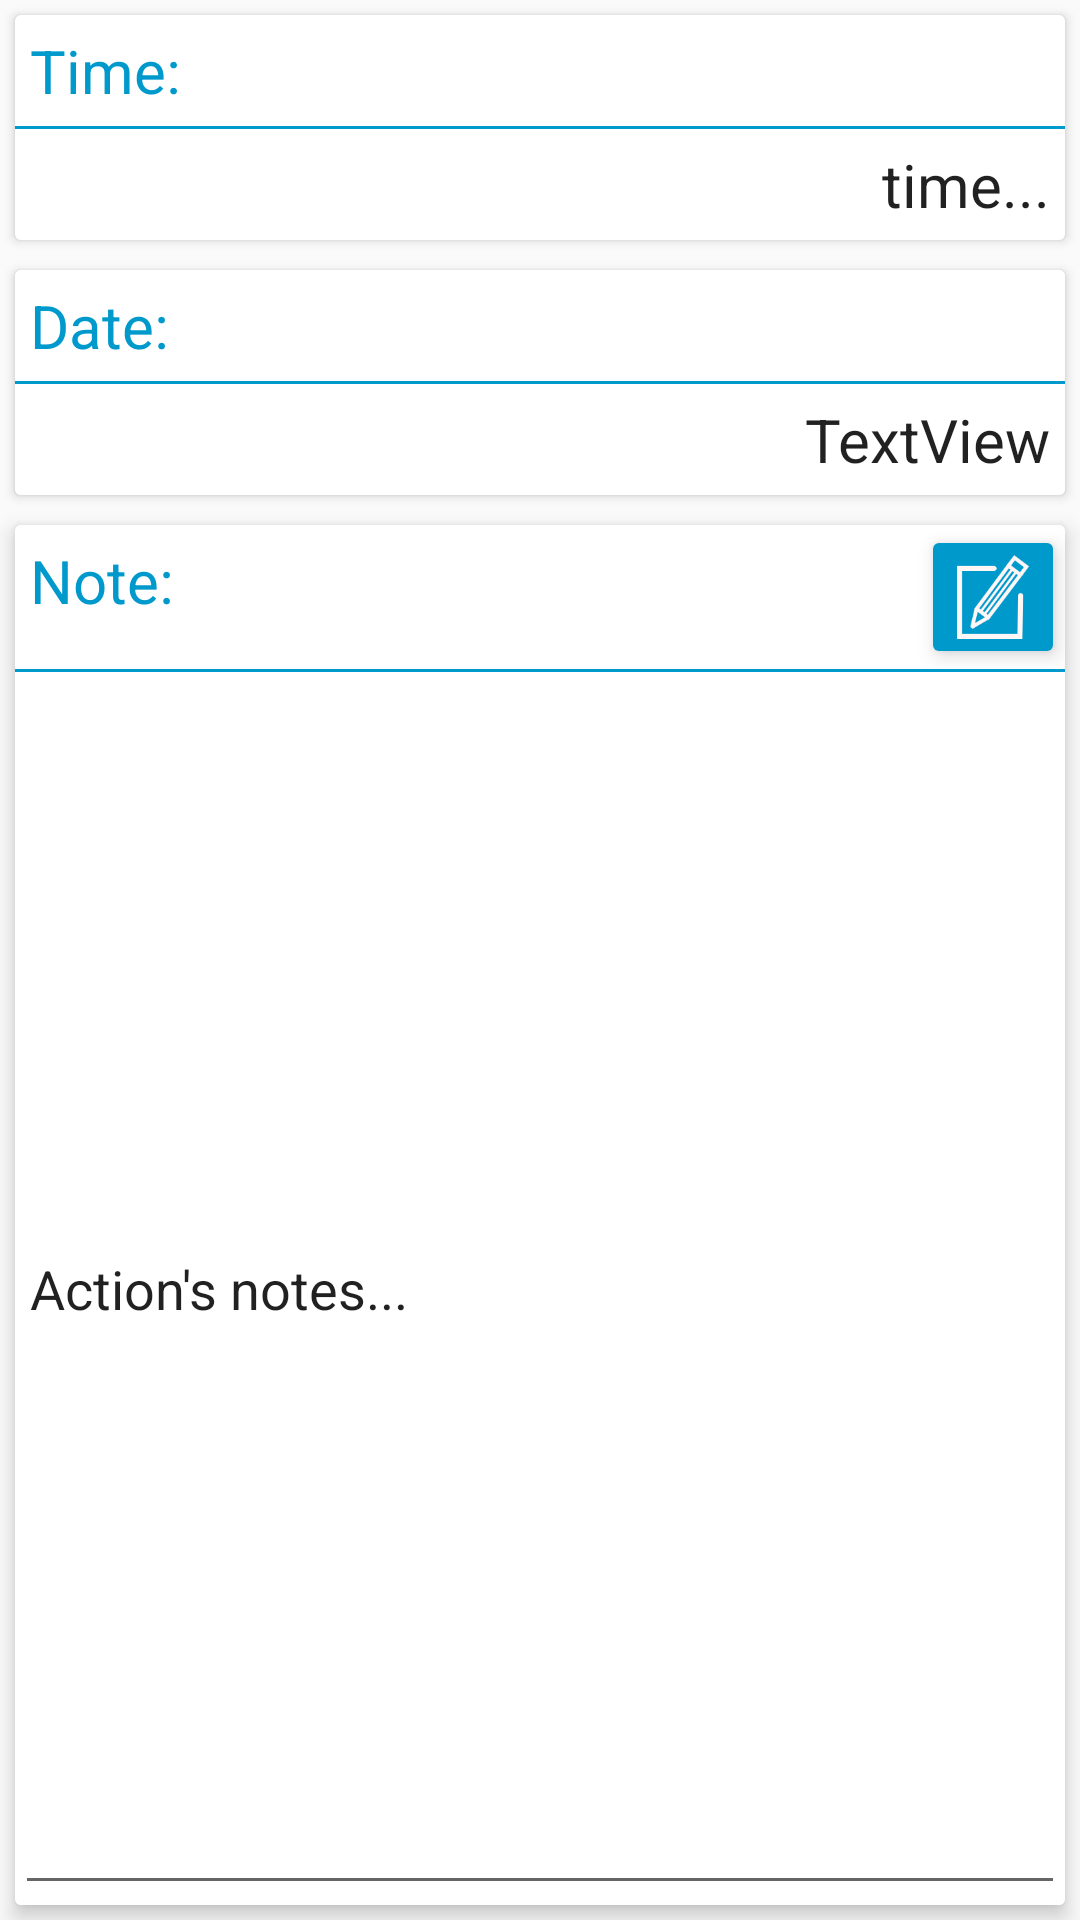

Screen size 1080x1920. Icon name, then its center in pixels as [x,y]:
edit: [994,598]
